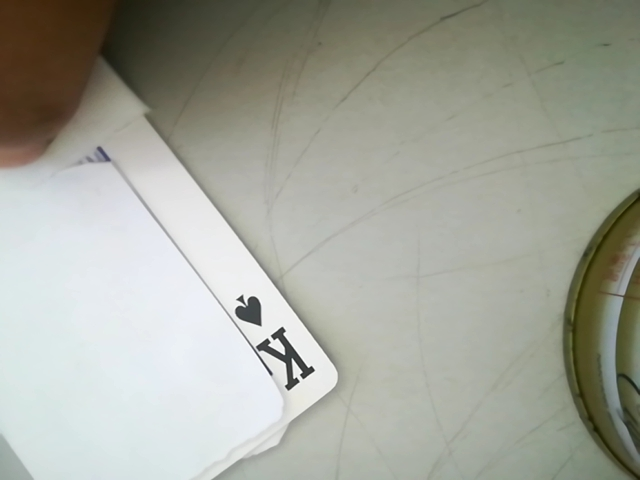ht k: (218, 280, 317, 409)
